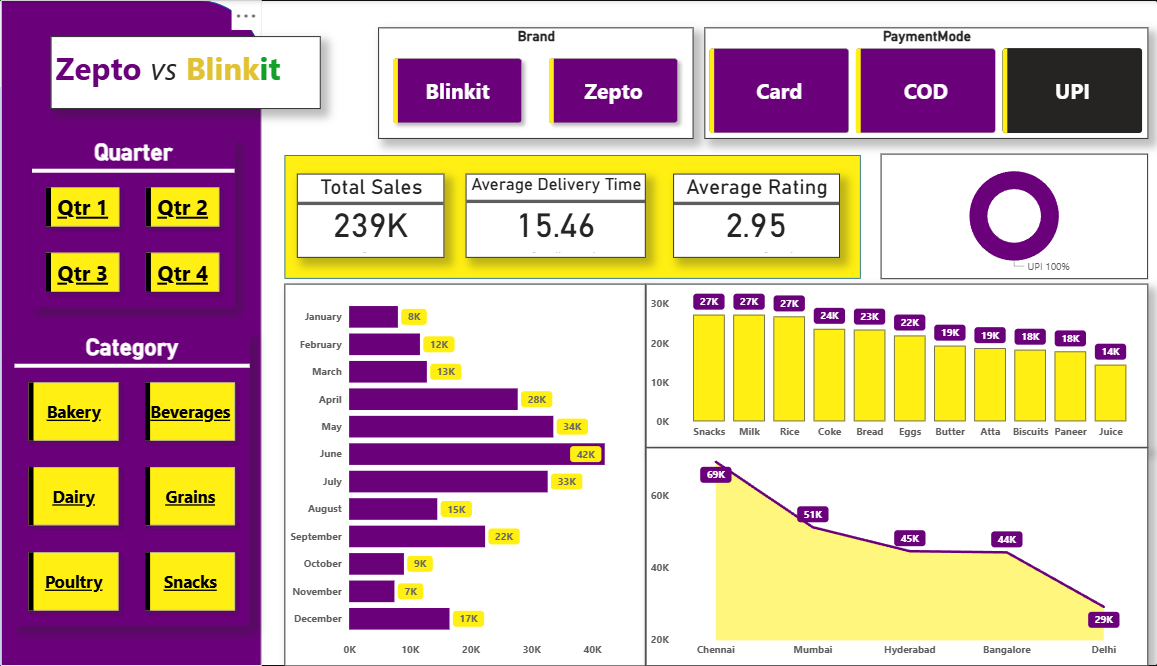

Layout of this report page (visuals, bound fields, positions):
{"tool":"powerbi","page":{"name":"Page 1","canvas":[1400,800],"ordinal":0},"visuals":[{"type":"shape","box":[10.5,0,313.7,800],"z":0},{"type":"textbox","box":[70.5,43,324.2,87.1],"z":2000},{"type":"advancedSlicerVisual","fields":{"Values":["Table2.Brand"]},"box":[463.8,33,378.2,133.6],"z":3000},{"type":"advancedSlicerVisual","fields":{"Values":["Table2.PaymentMode"]},"box":[855.5,33,532.8,133.6],"z":4000},{"type":"advancedSlicerVisual","title":" Quarter","fields":{"Values":["Table2.Date.Variation.Date Hierarchy.Quarter"]},"box":[48,166.6,243.1,202.6],"z":5000},{"type":"advancedSlicerVisual","title":" Category","fields":{"Values":["Table2.Category"]},"box":[27,400.7,282.2,351.2],"z":6000},{"type":"shape","box":[351.2,186.1,691.9,148.6],"z":7000},{"type":"card","title":"Total Sales","fields":{"Values":["Sum(Table2.Amount)"]},"box":[366.2,208.6,177.1,100.6],"z":8000},{"type":"card","title":"Average Delivery Time","fields":{"Values":["Avg(Table2.DeliveryTime(min))"]},"box":[568.8,208.6,216.1,100.6],"z":9000},{"type":"card","title":"Average Rating","fields":{"Values":["Avg(Table2.Rating)"]},"box":[818,208.6,199.6,100.6],"z":10000},{"type":"clusteredBarChart","fields":{"Category":["Table2.Date.Variation.Date Hierarchy.Month"],"Y":["Sum(Table2.Amount)"]},"box":[351.2,340.7,433.7,459.3],"z":11000},{"type":"columnChart","fields":{"Category":["Table2.Product"],"Y":["Sum(Table2.Amount)"]},"box":[785,340.7,603.3,196.6],"z":12000},{"type":"areaChart","fields":{"Category":["Table2.City"],"Y":["Sum(Table2.Amount)"]},"box":[785,538,603,262],"z":13000},{"type":"donutChart","fields":{"Category":["Table2.PaymentMode"],"Y":["Sum(Table2.Amount)"]},"box":[1067.1,184.6,321.2,150.1],"z":14000}]}

Visuals, with their boxes in screenshot pixels (x1, y1, x2, y2), scaled from the page's 1400x800 canvas onto the 1157x666 screenshot:
shape: rect(9, 0, 268, 665)
textbox: rect(58, 36, 326, 108)
advancedSlicerVisual - Table2.Brand: rect(383, 27, 696, 139)
advancedSlicerVisual - Table2.PaymentMode: rect(707, 27, 1147, 139)
" Quarter" advancedSlicerVisual: rect(40, 139, 241, 307)
" Category" advancedSlicerVisual: rect(22, 334, 256, 626)
shape: rect(290, 155, 862, 279)
"Total Sales" card: rect(303, 174, 449, 257)
"Average Delivery Time" card: rect(470, 174, 649, 257)
"Average Rating" card: rect(676, 174, 841, 257)
clusteredBarChart - Table2.Date.Variation.Date Hierarchy.Month x Sum(Table2.Amount): rect(290, 284, 649, 665)
columnChart - Table2.Product x Sum(Table2.Amount): rect(649, 284, 1147, 447)
areaChart - Table2.City x Sum(Table2.Amount): rect(649, 448, 1147, 665)
donutChart - Table2.PaymentMode x Sum(Table2.Amount): rect(882, 154, 1147, 279)
